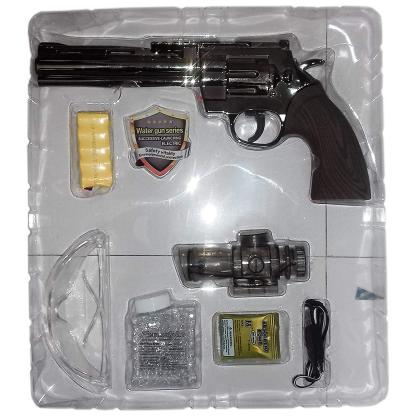handgun: (30, 30, 381, 211)
